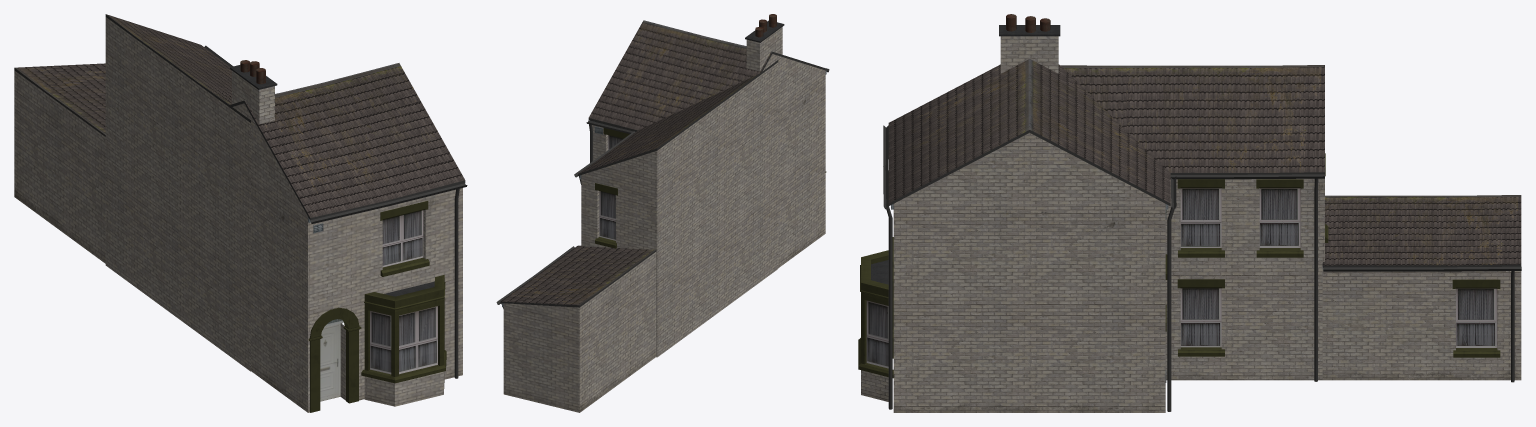
The model's file is ukterracedvictorian9bm.FBX.
3 views of the same model, side by side, from view 1: azimuth 30°, elevation 25°; view 2: azimuth 150°, elevation 25°; view 3: azimuth 270°, elevation 25° (orthographic). The views are drawn at different scales.
Visible parts, largest first — view 1: Object003; view 2: Object003; view 3: Object003.
Part boxes in pixels (<box>): Object003: <box>14,14,467,412</box>; Object003: <box>496,14,829,412</box>; Object003: <box>858,14,1521,412</box>.
Bounding box in the file's own units: 561 × 1041 × 1949.
